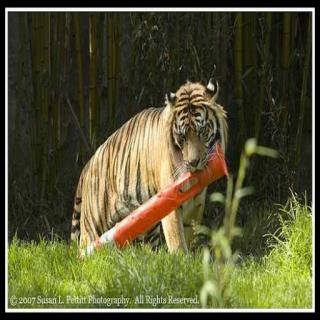Tiger: (65, 75, 240, 267)
